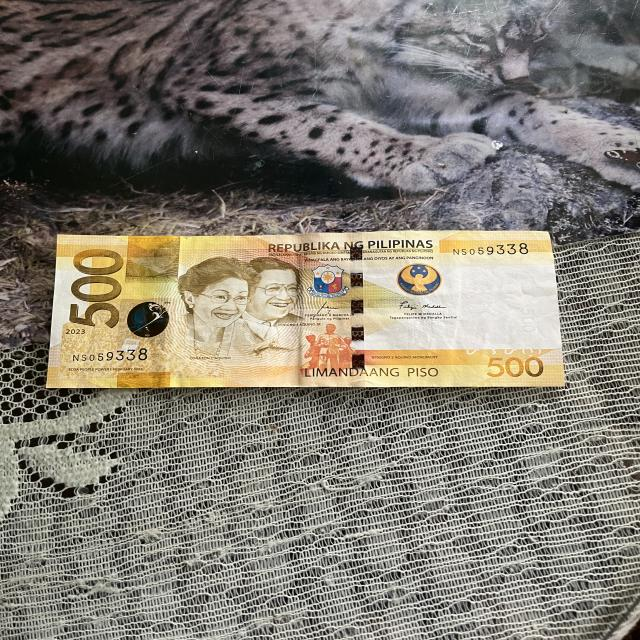concealed_value: (125, 234, 180, 280)
optically_variable_device: (112, 296, 174, 347)
see_through_mark: (457, 339, 554, 360)
